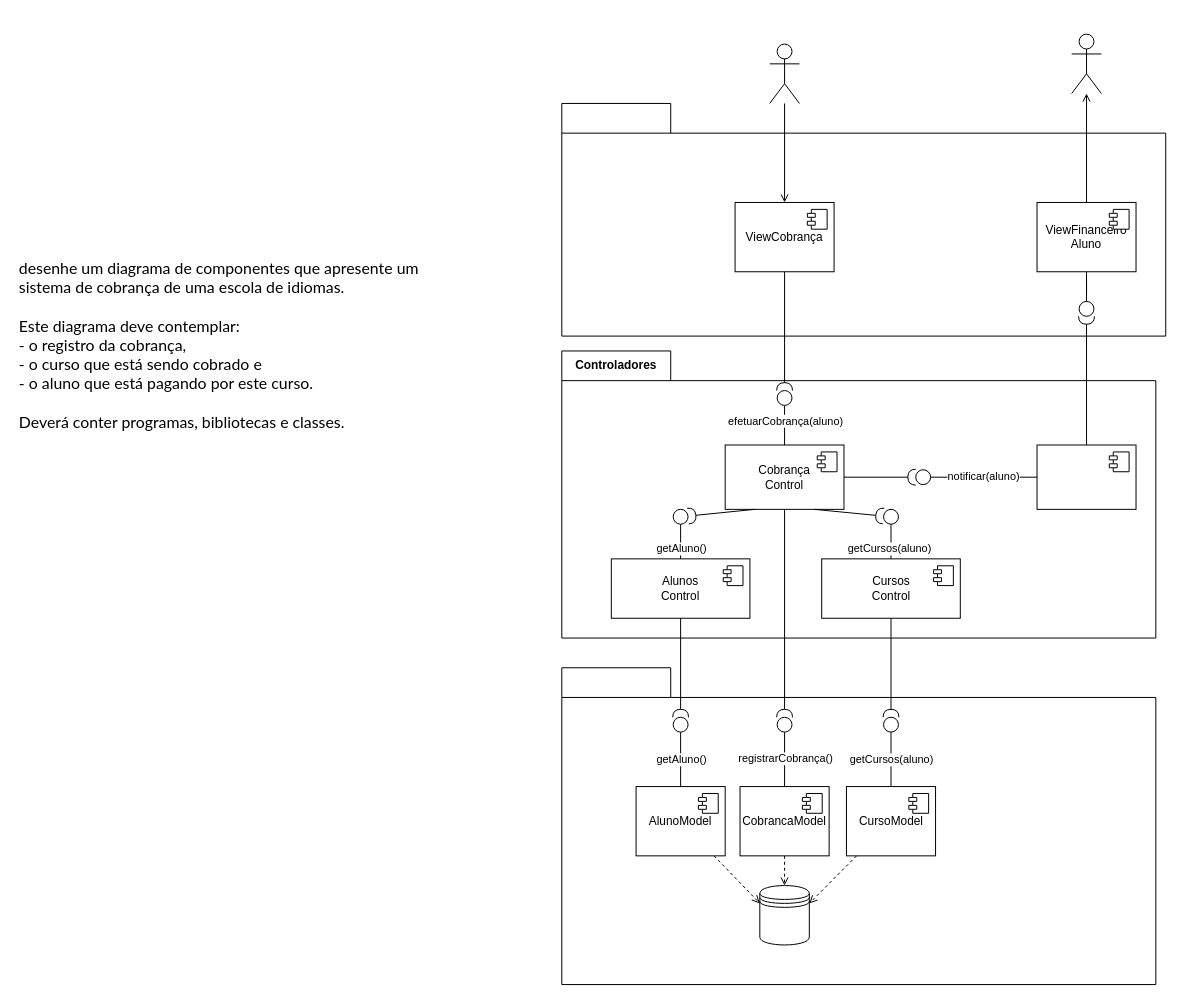
Some shapes in this 1183 by 1002 pixel diagram are drawn without their labels. The shapes that lost their labels are listed below. From the top down, each one's box as (x1, y1, x2, y2) in pixels, then its label:
(769, 43, 799, 103): Secretario
(1071, 33, 1101, 94): Aluno
(561, 102, 1166, 336): Visualizações
(1036, 444, 1136, 509): Notificacoes Control
(561, 667, 1156, 985): Persistência
